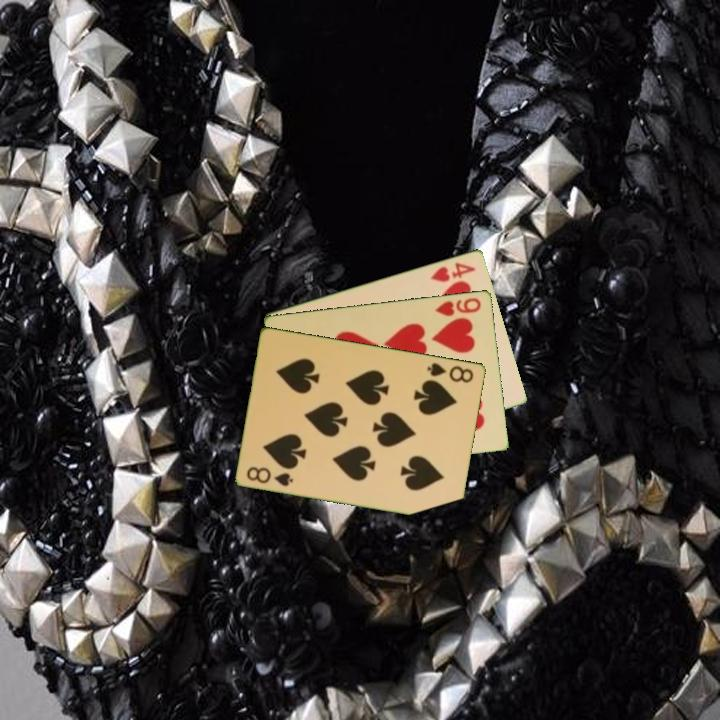4h: (427, 259, 479, 285)
8s: (424, 359, 477, 385), (243, 463, 296, 489)
9h: (432, 294, 484, 319)
